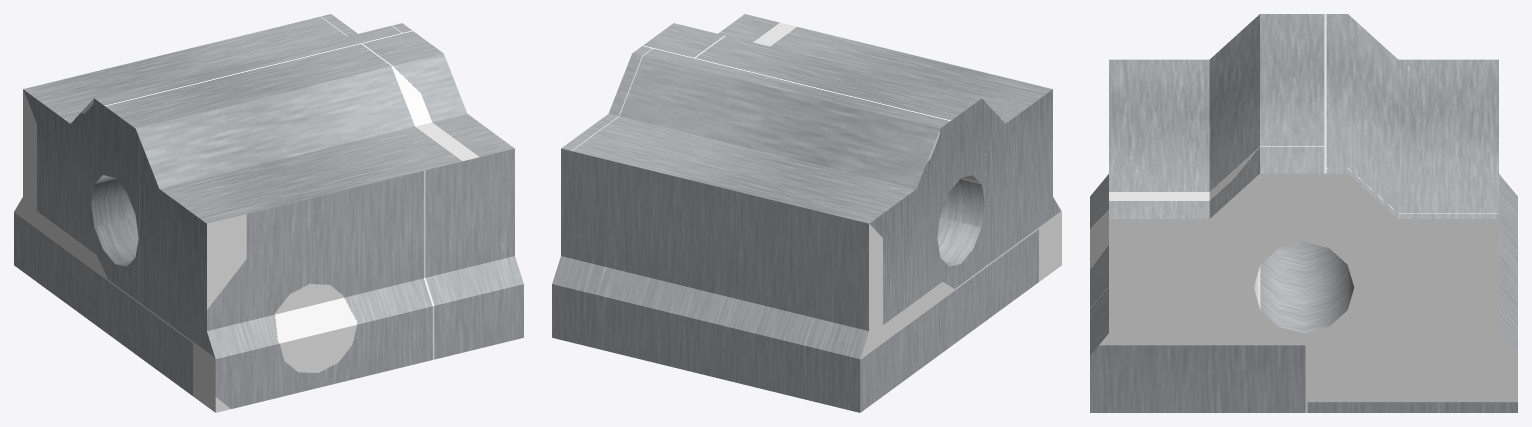
File: LinearBearing.gltf
3 renders of one model, left to right at view 1: azimuth 30°, elevation 25°; view 2: azimuth 150°, elevation 25°; view 3: azimuth 270°, elevation 25°, orthographic. The views are drawn at different scales.
Parts seen in each view (by area): view 1: Linear Bearing; view 2: Linear Bearing; view 3: Linear Bearing.
Part boxes in pixels (bbox=[...]): Linear Bearing: bbox=[14, 14, 523, 412]; Linear Bearing: bbox=[552, 14, 1061, 412]; Linear Bearing: bbox=[1090, 14, 1517, 412].
Bounding box in the file's own units: 30 × 21 × 34.
1 material, 1 textured.
